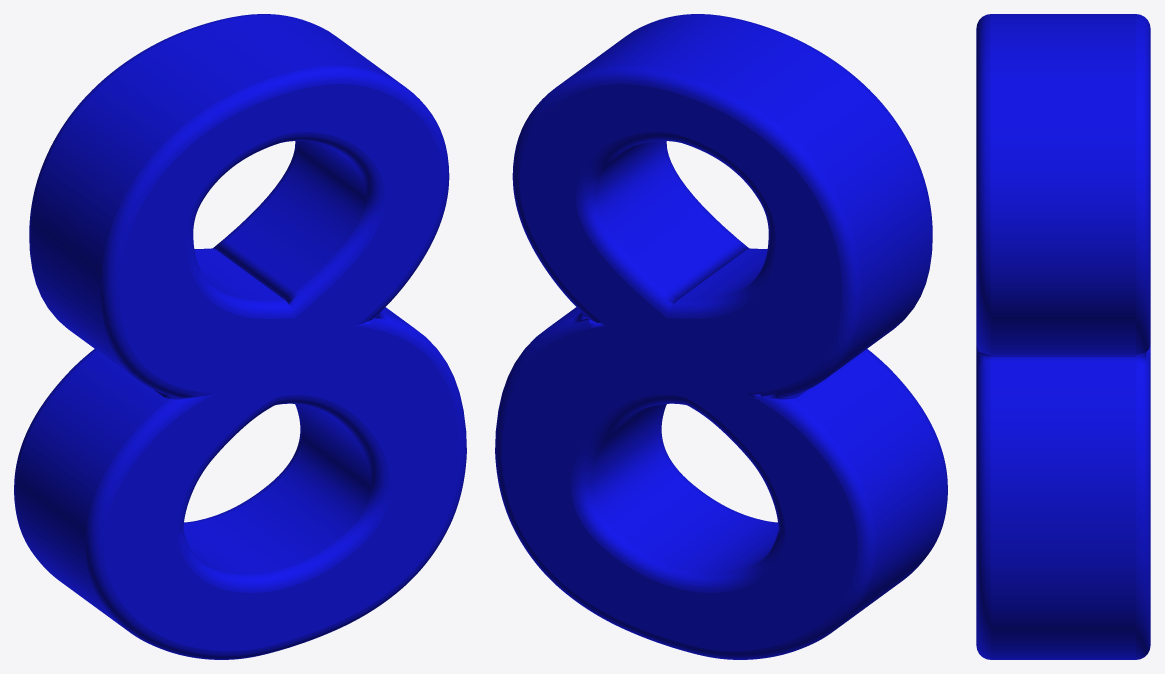
The model's file is bn_number_4.fbx.
3 renders of one model, left to right at view 1: azimuth 30°, elevation 25°; view 2: azimuth 150°, elevation 25°; view 3: azimuth 270°, elevation 25°, orthographic. The views are drawn at different scales.
Visible parts, largest first — view 1: Text; view 2: Text; view 3: Text.
Part boxes in pixels (x1,y1,x2,y2): Text: (14,14,466,659); Text: (495,14,947,659); Text: (976,14,1150,659).
Bounding box in the file's own units: 201 × 291 × 76.89.
